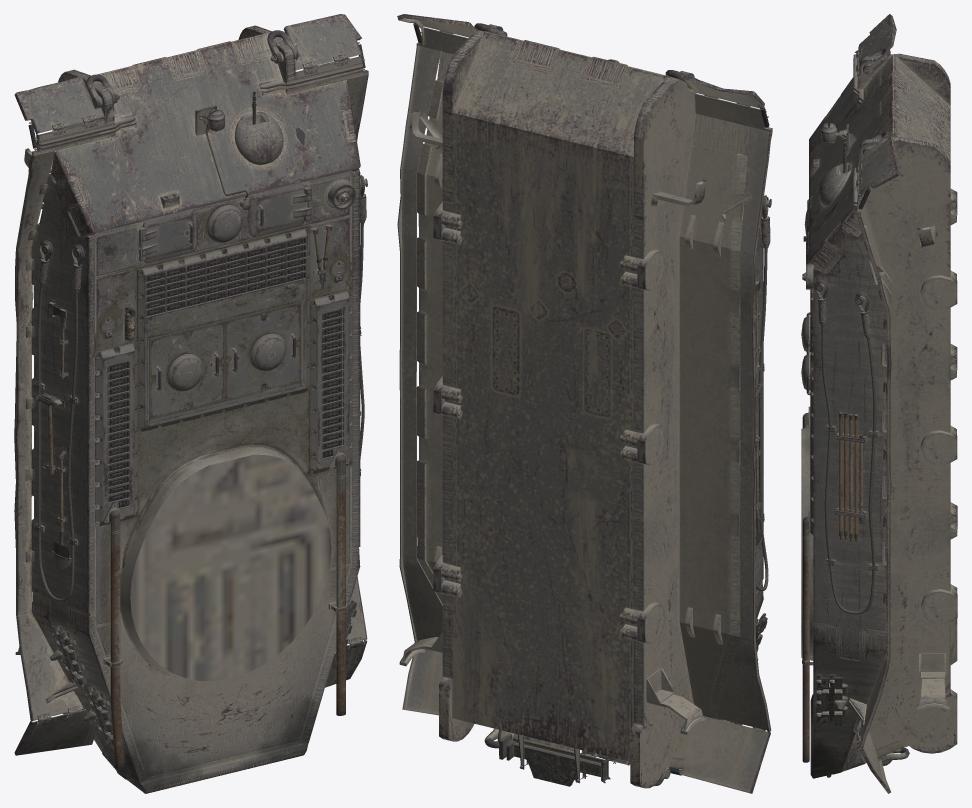
File: Hull.glb
3 renders of one model, left to right at view 1: azimuth 30°, elevation 25°; view 2: azimuth 150°, elevation 25°; view 3: azimuth 270°, elevation 25°, orthographic. The views are drawn at different scales.
Visible parts, largest first — view 1: set_0_group_0; view 2: set_0_group_0; view 3: set_0_group_0.
Part boxes in pixels (x1,y1,x2,y2): set_0_group_0: [14, 14, 368, 793]; set_0_group_0: [397, 14, 772, 793]; set_0_group_0: [801, 14, 957, 793].
Bounding box in the file's own units: 3.6 × 7.06 × 1.54.
1 material, 1 textured.
